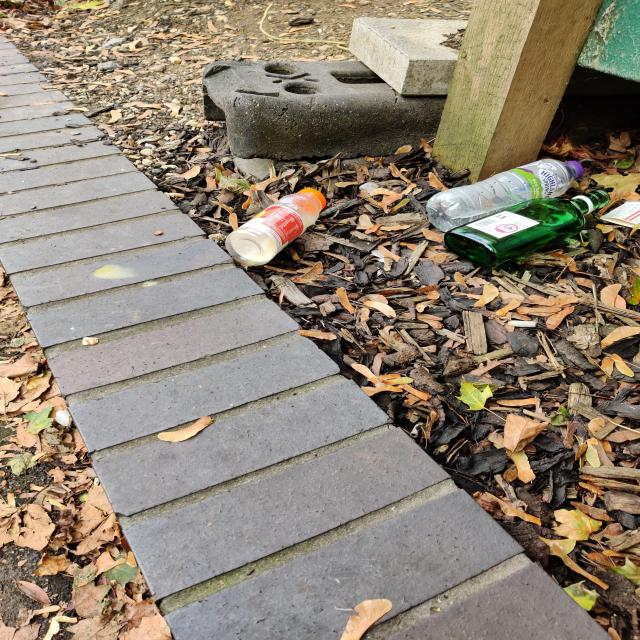litter: (428, 188, 616, 271), (421, 150, 596, 232), (212, 176, 333, 271)
